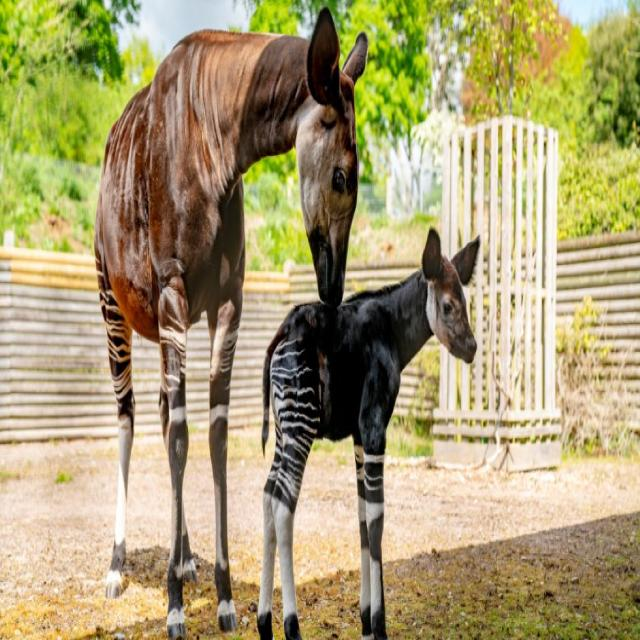Okapi: (91, 5, 371, 637), (262, 222, 484, 640)
